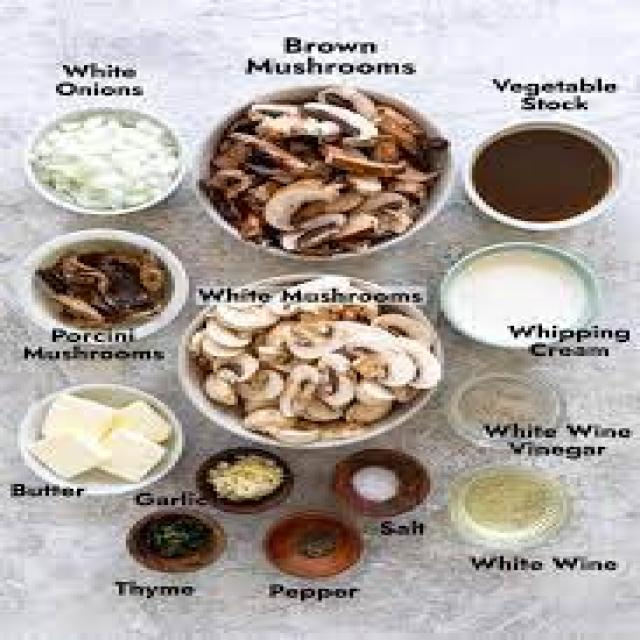Mushroom: (204, 88, 453, 250), (193, 304, 445, 446)
